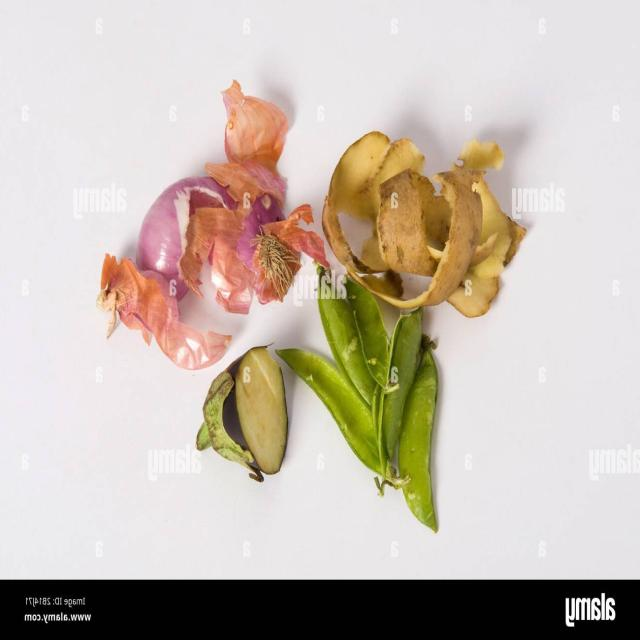organic: (321, 133, 526, 317), (137, 175, 328, 314), (273, 346, 391, 489), (94, 255, 236, 370), (192, 346, 288, 483), (396, 336, 448, 538), (375, 306, 424, 501), (218, 79, 290, 165)
